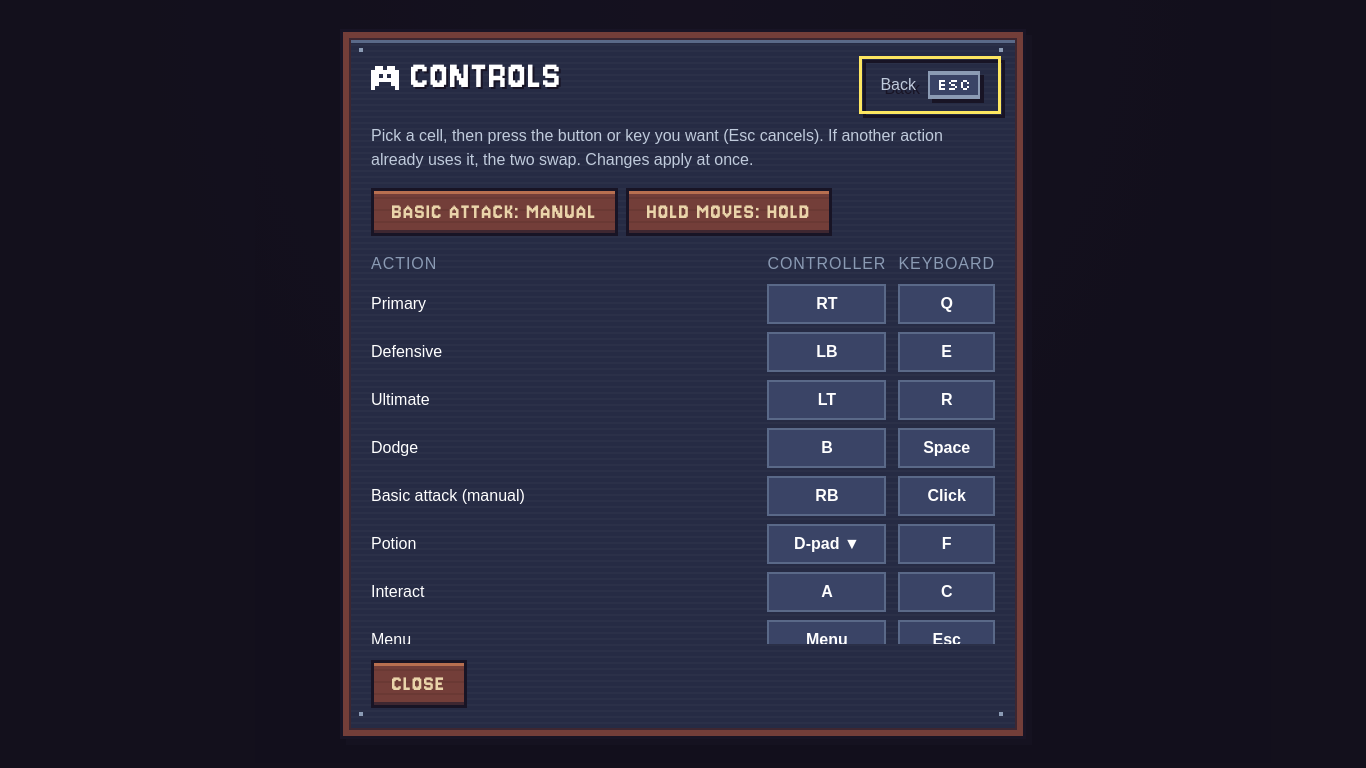
ControlsPanel › rebinds a controller button with the next pad press
The image size is (1366, 768).
Click the button with test id "bind-pad-dodge" at [827, 448], box [767,428,886,468]
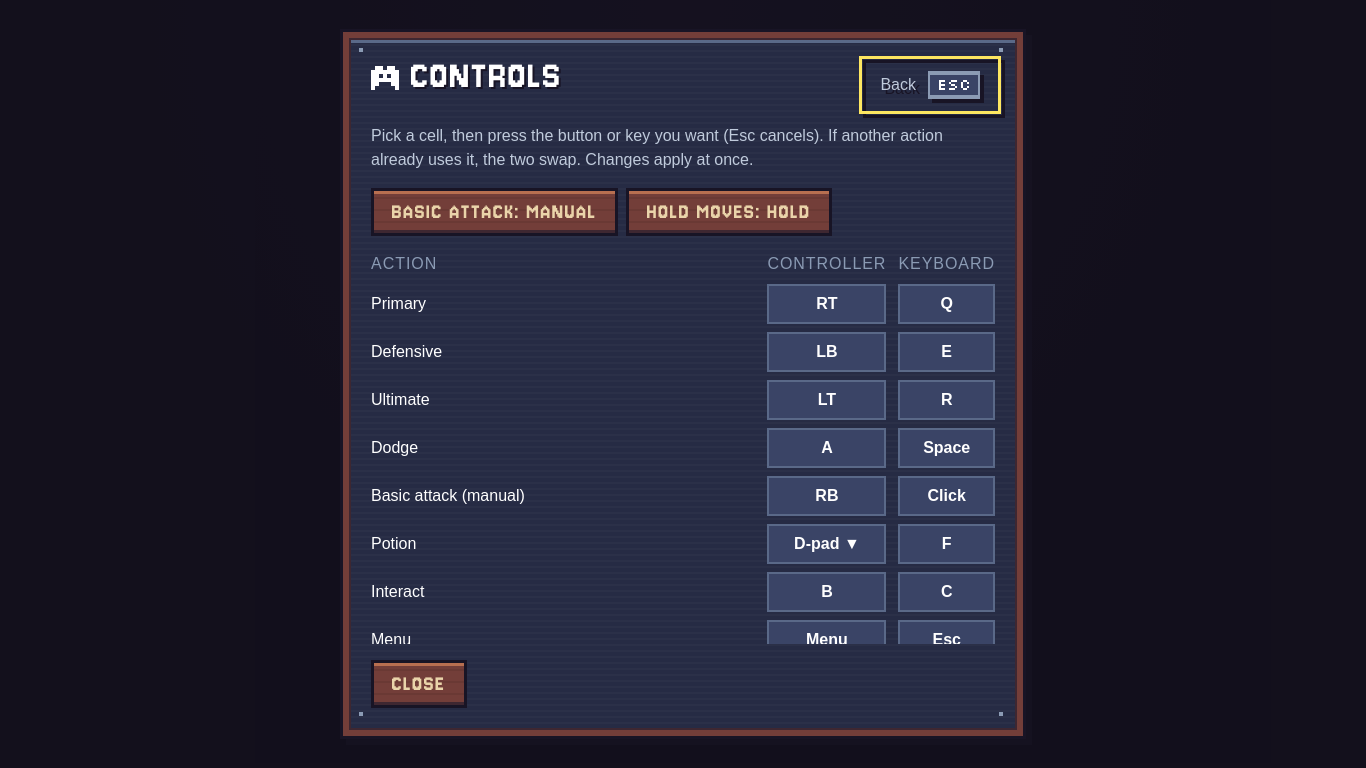
Expected: the button with test id "bind-pad-dodge" reads "A", [767,428,886,468]
